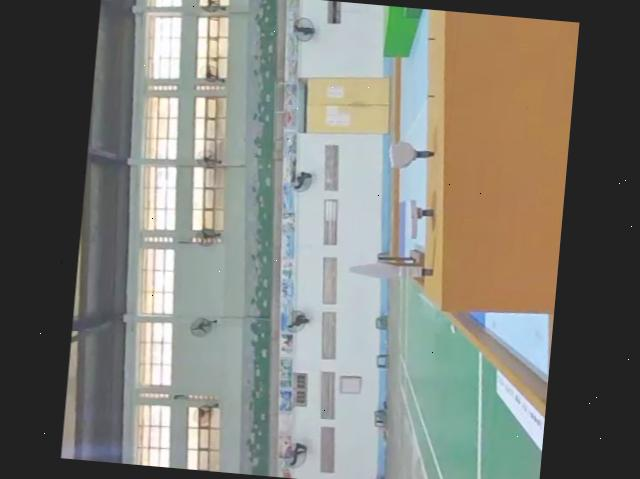Fist: (385, 136, 438, 173)
Hand: (401, 193, 438, 237)
Sph: (346, 254, 436, 282)
